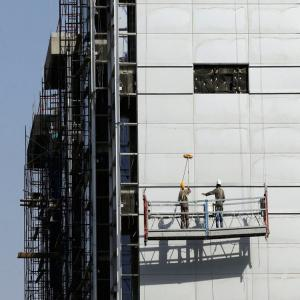white: (217, 179, 222, 188)
yellow: (181, 183, 186, 191)
